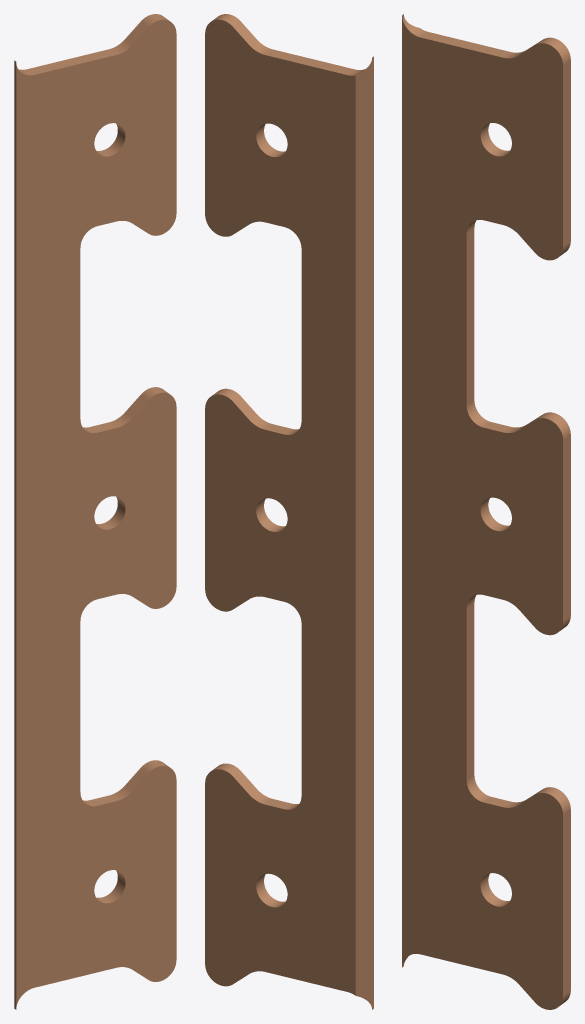
Rendered from panel-a-flap.glb.
3 renders of one model, left to right at view 1: azimuth 30°, elevation 25°; view 2: azimuth 150°, elevation 25°; view 3: azimuth 330°, elevation 25°, orthographic.
Parts seen in each view (by area): view 1: panel-a-flap; view 2: panel-a-flap; view 3: panel-a-flap.
Boxes of the visible parts, x1=… form: panel-a-flap: x1=14, y1=14, x2=176, y2=1009; panel-a-flap: x1=205, y1=14, x2=373, y2=1009; panel-a-flap: x1=402, y1=14, x2=570, y2=1009.
Size of the model in its own units: 108 by 620 by 9.
